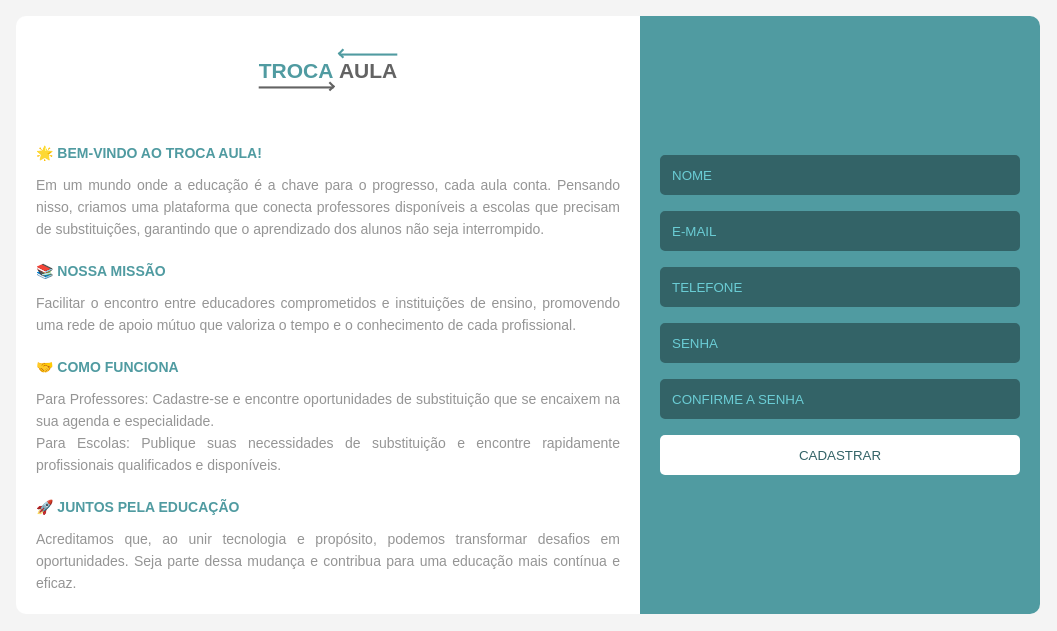
Cadastro Page › shows validation errors
The width and height of the screenshot is (1057, 631).
Click the button "Cadastrar": click(840, 455) [660,435,1020,475]
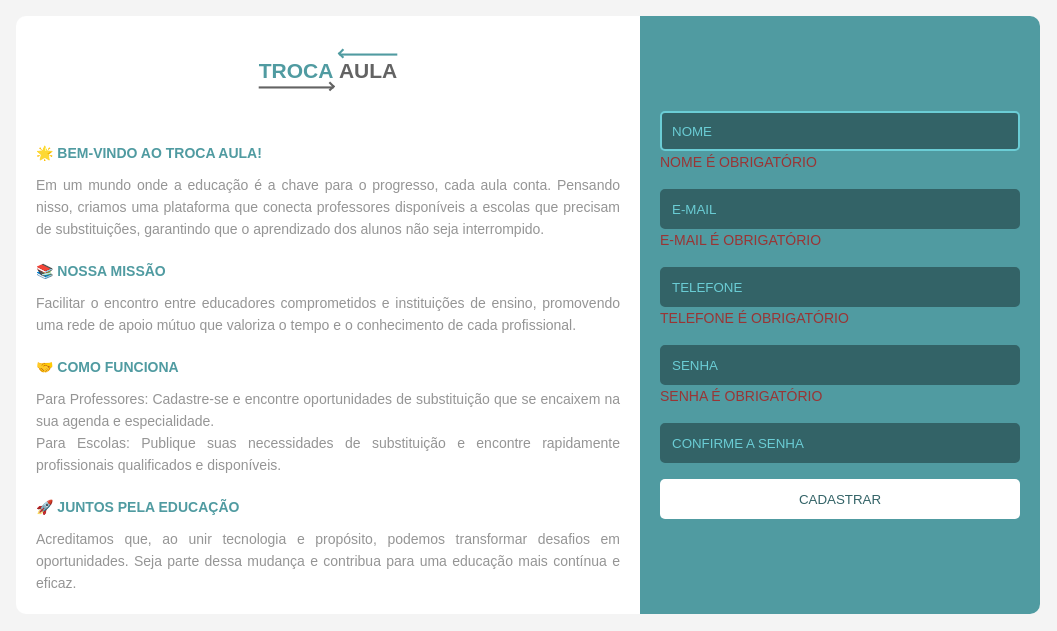
Result: the text "Nome é obrigatório" is shown at [660,154,817,170]
Result: the text "E-mail é obrigatório" is shown at [660,232,821,248]
Result: the text "Telefone é obrigatório" is shown at [660,310,849,326]
